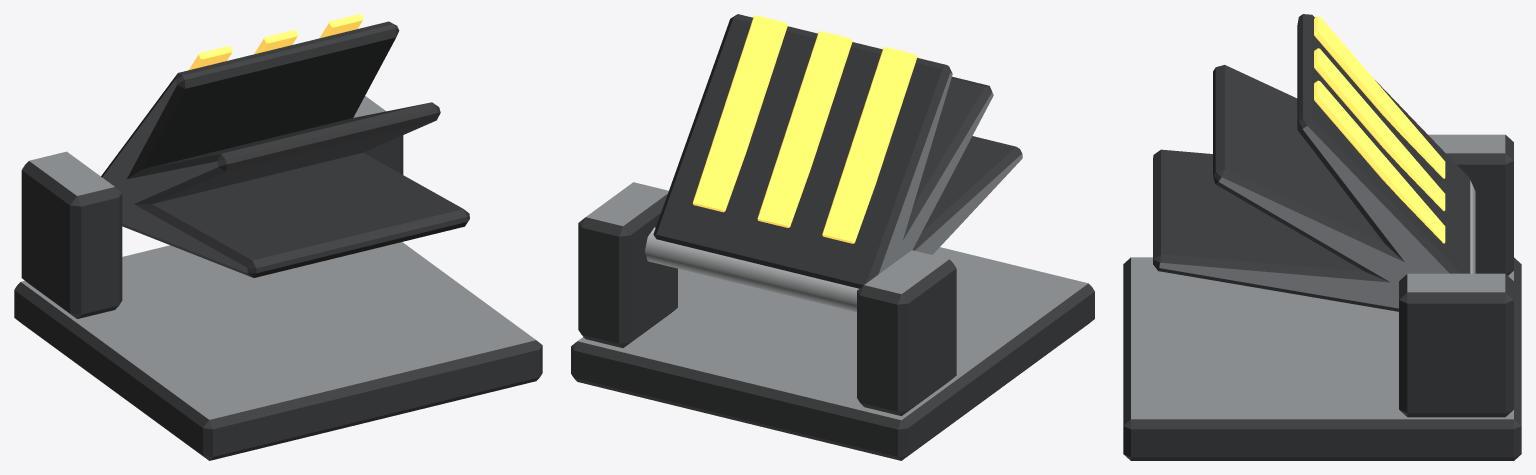
File: R4X_RampDeployer_LOD1.fbx
3 views of the same model, side by side, from view 1: azimuth 30°, elevation 25°; view 2: azimuth 150°, elevation 25°; view 3: azimuth 270°, elevation 25° (orthographic). The views are drawn at different scales.
Parts seen in each view (by area): view 1: R4X_RampDeployer_LOD1; view 2: R4X_RampDeployer_LOD1; view 3: R4X_RampDeployer_LOD1.
Boxes of the visible parts, x1,y1,x2,y2 form: R4X_RampDeployer_LOD1: [14, 14, 542, 460]; R4X_RampDeployer_LOD1: [571, 14, 1094, 460]; R4X_RampDeployer_LOD1: [1123, 14, 1521, 460].
Size of the model in its own units: 0.52 by 0.4673 by 0.52.
